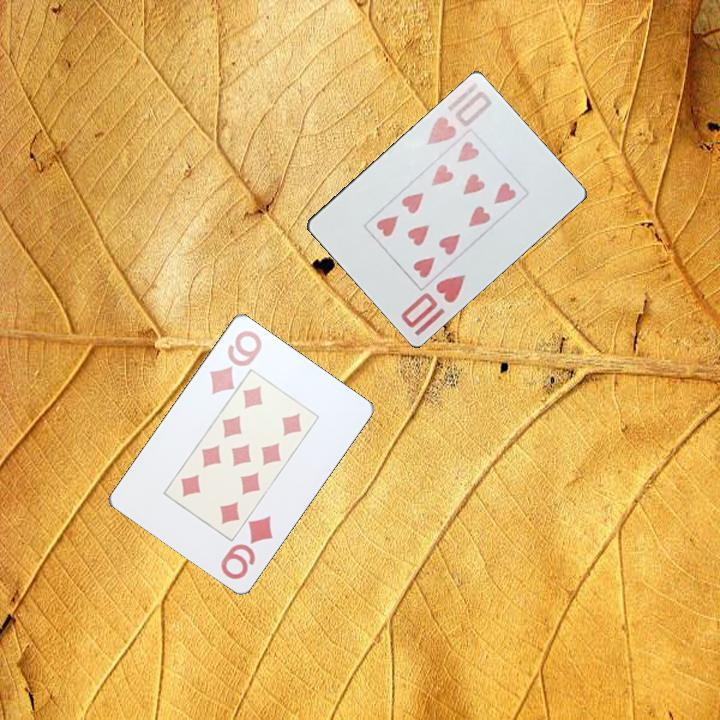9d: (206, 326, 265, 397), (217, 511, 276, 582)
Th: (423, 79, 495, 150), (397, 271, 469, 331)
